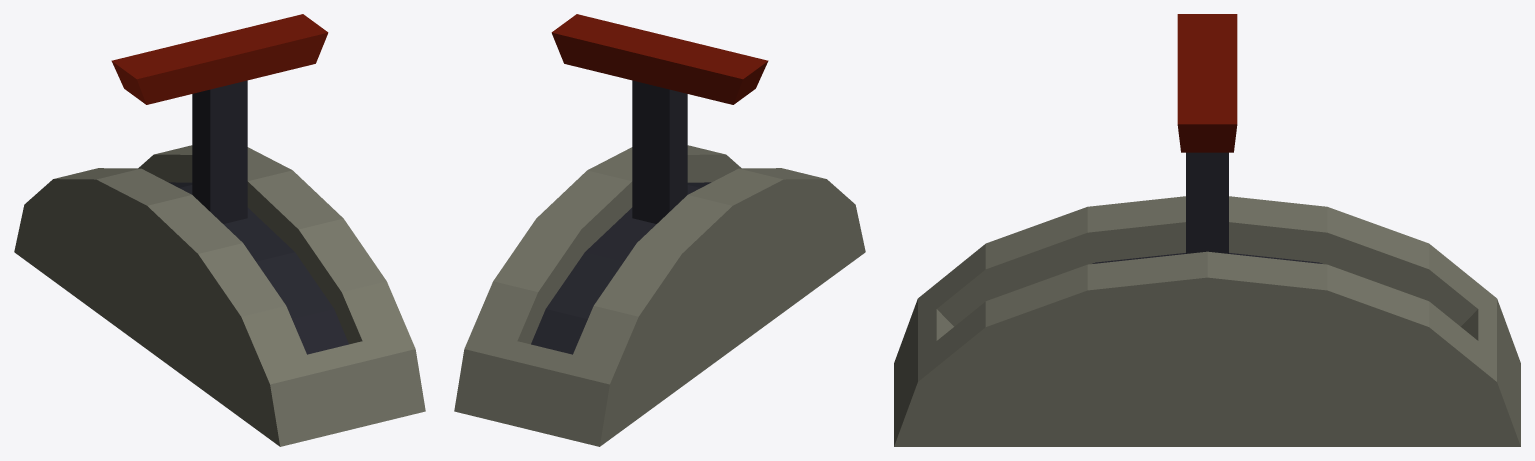
Rendered from LPSciFiCharacter_LeverA.fbx.
3 renders of one model, left to right at view 1: azimuth 30°, elevation 25°; view 2: azimuth 150°, elevation 25°; view 3: azimuth 270°, elevation 25°, orthographic. The views are drawn at different scales.
Parts seen in each view (by area): view 1: LeverA; view 2: LeverA; view 3: LeverA.
Boxes of the visible parts, bbox=[...] form: LeverA: bbox=[14, 14, 425, 446]; LeverA: bbox=[454, 14, 865, 446]; LeverA: bbox=[894, 14, 1520, 446].
Size of the model in its own units: 26.15 by 38.16 by 62.87.
